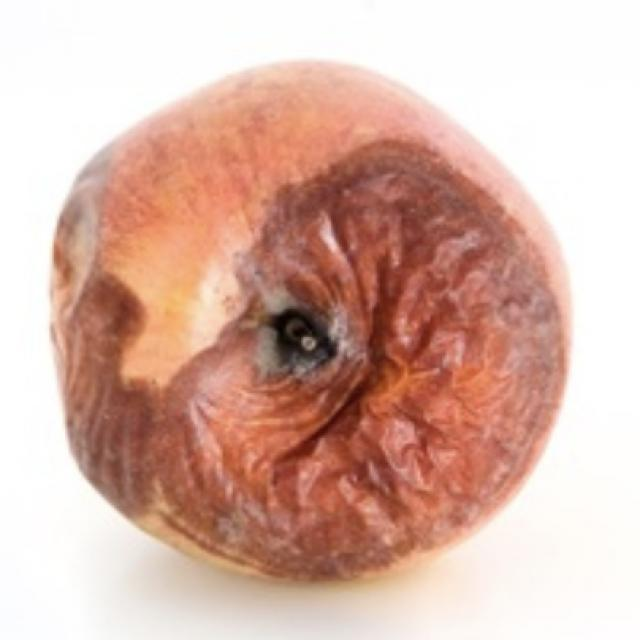rotten_apple: (42, 58, 572, 586)
